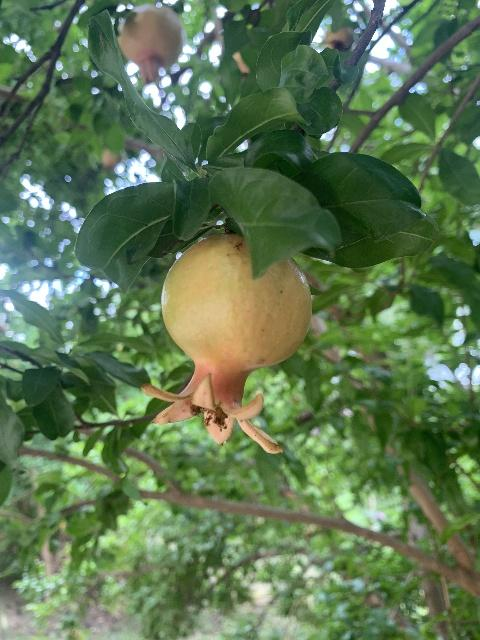mid-growth: (138, 233, 310, 454), (117, 3, 185, 86)
